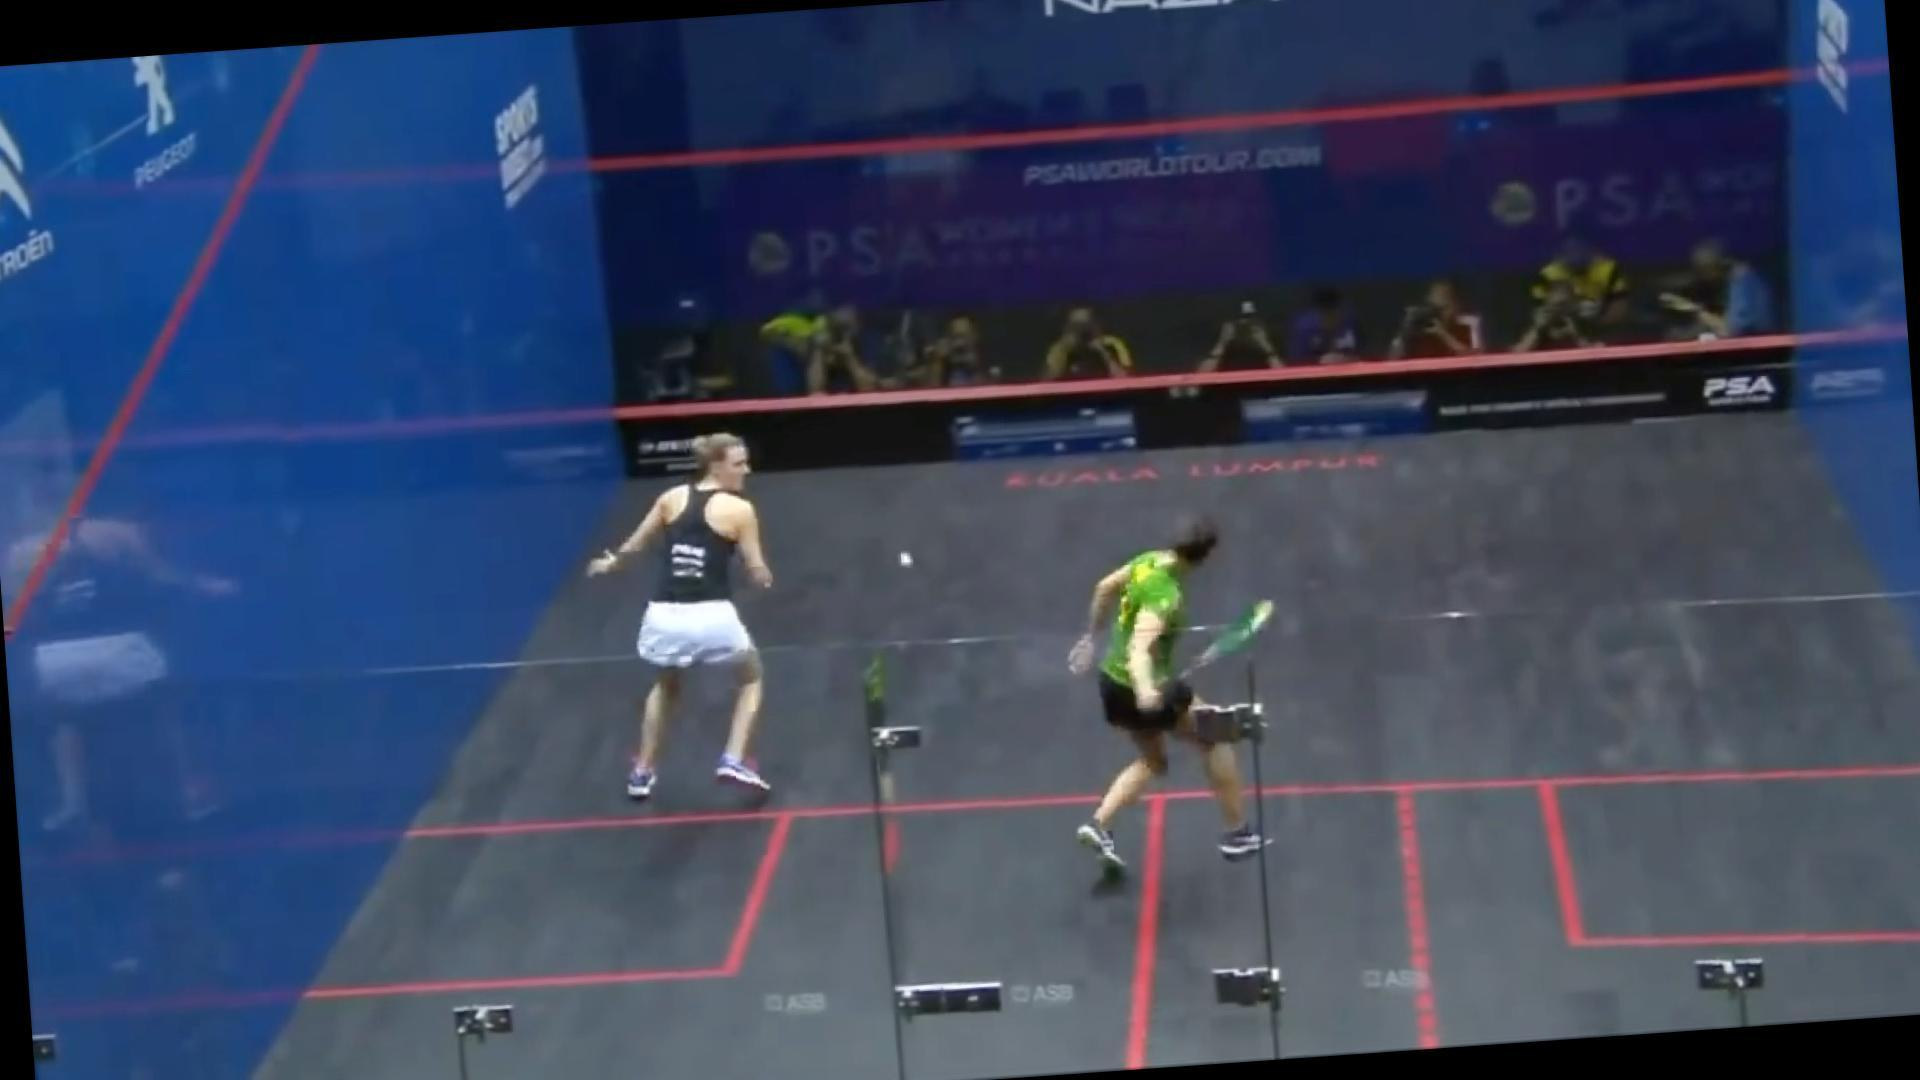Squash-Ball: (888, 538, 923, 582)
